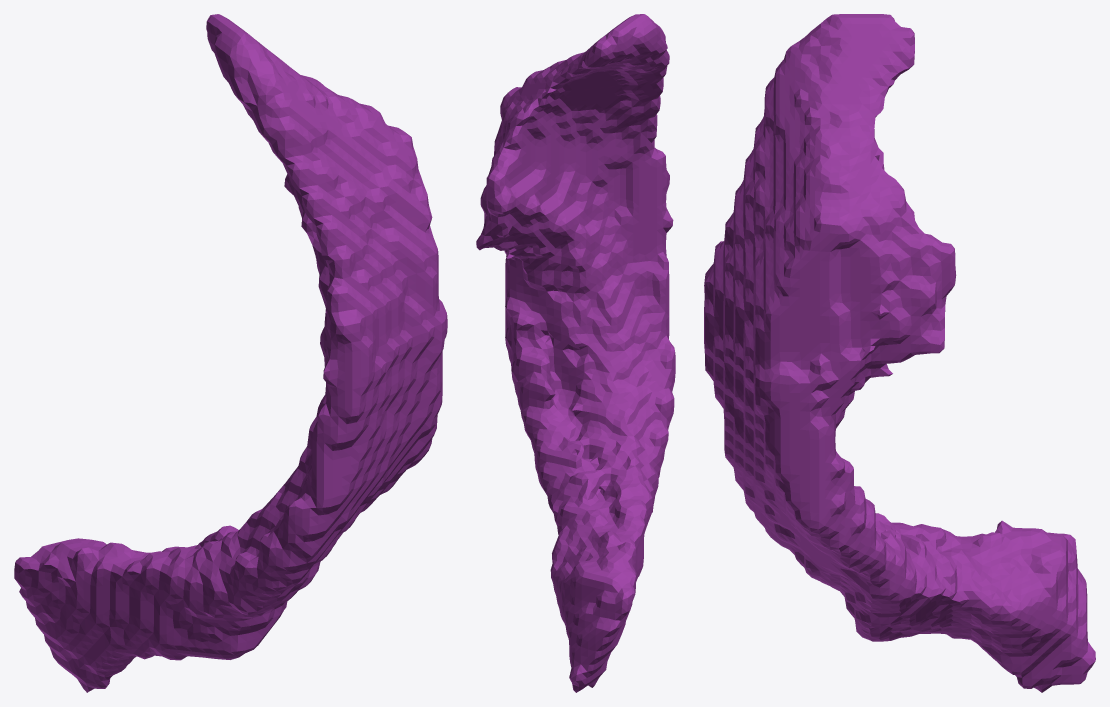
Rendered from aseg_004_Left-Lateral-Ventricle.glb.
The picture shows the model from 3 angles, left to right: view 1: azimuth 30°, elevation 25°; view 2: azimuth 150°, elevation 25°; view 3: azimuth 270°, elevation 25°; orthographic projection. The views are drawn at different scales.
Bounding box in the file's own units: 30.93 × 76.67 × 38.85.
